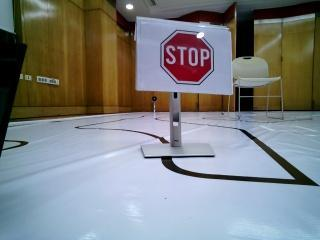stop: (145, 26, 227, 93)
